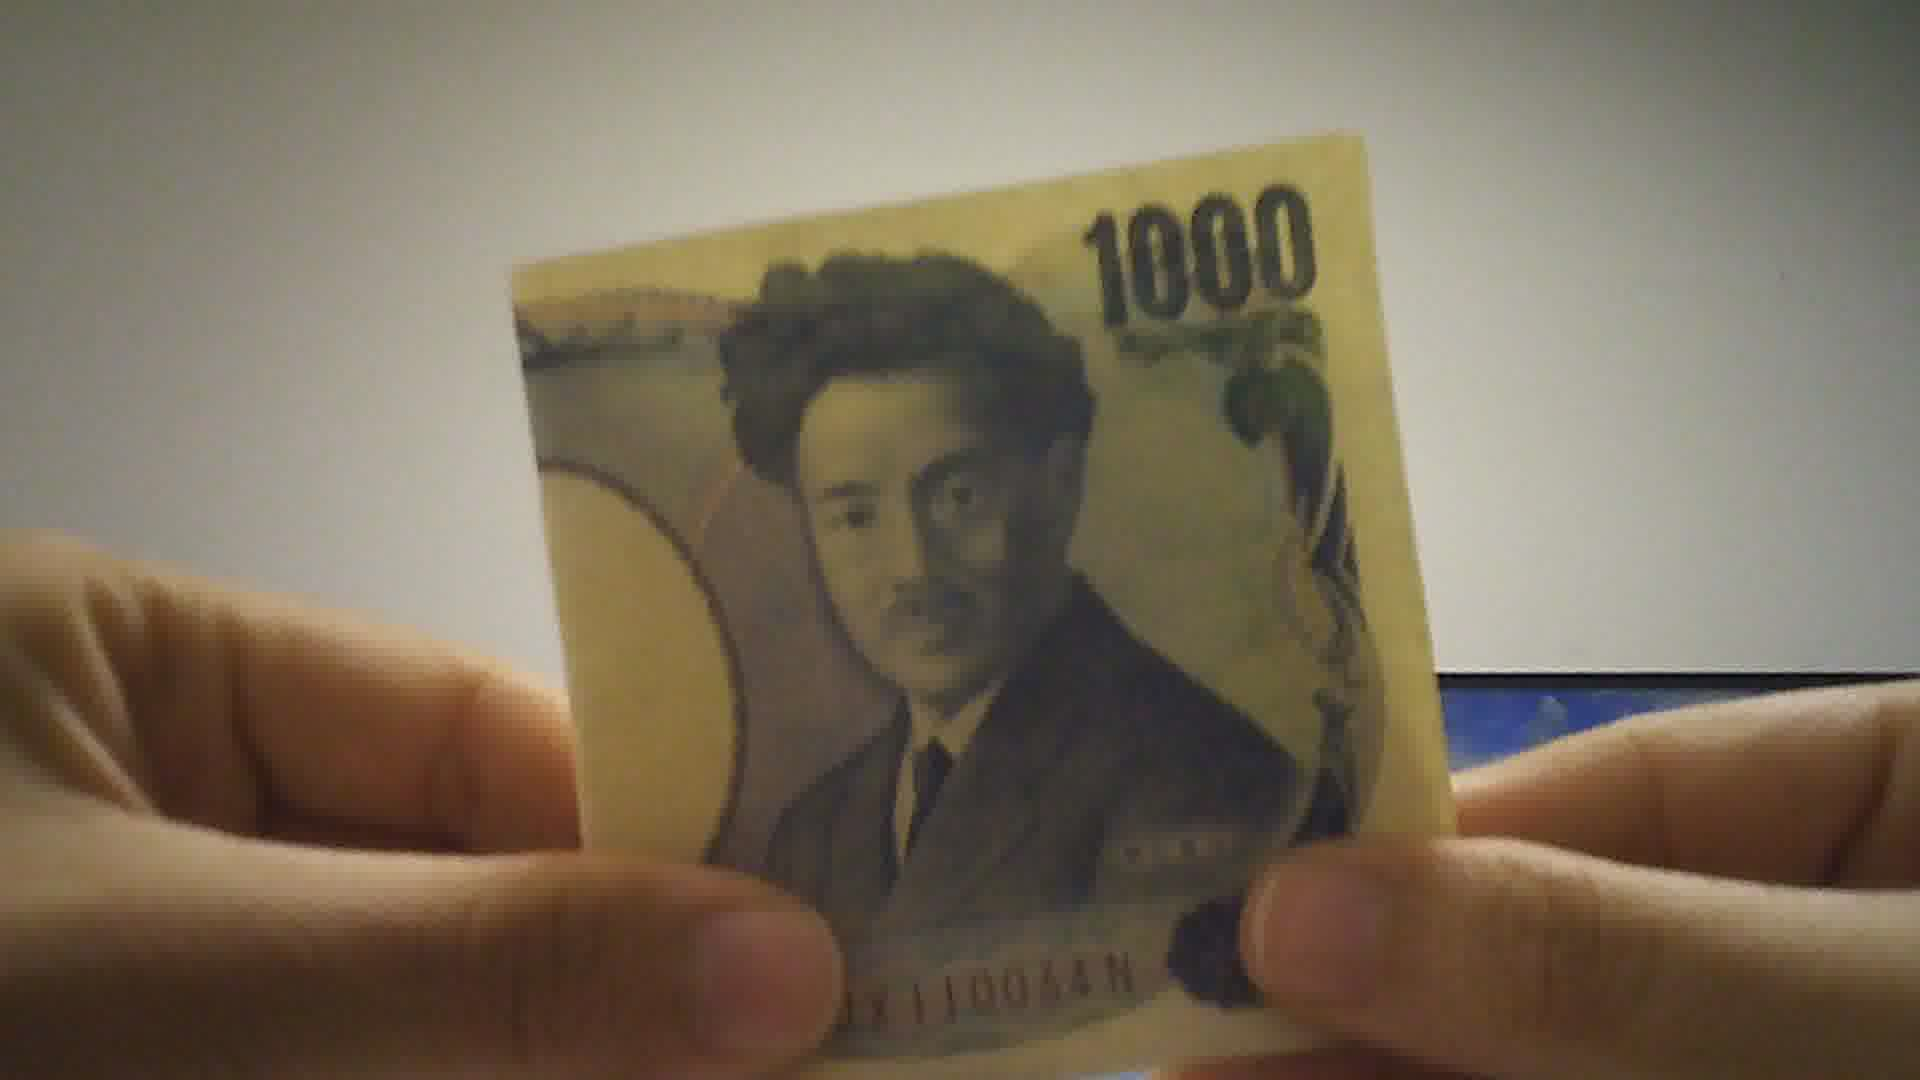1,000 Yen: (520, 138, 1489, 1079)
